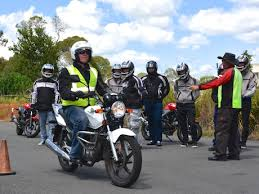helmet: (69, 39, 93, 65), (121, 60, 134, 77)
